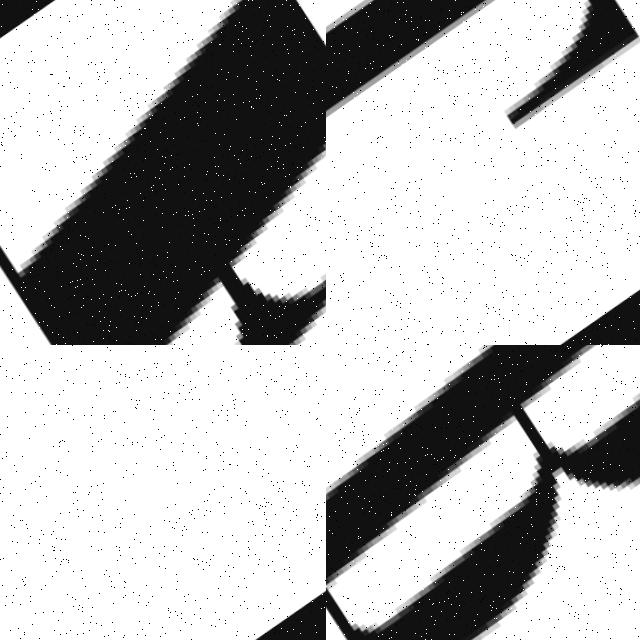B: (326, 345, 640, 640)
E: (0, 0, 326, 345)
K: (0, 345, 303, 640)
L: (326, 0, 640, 345)
